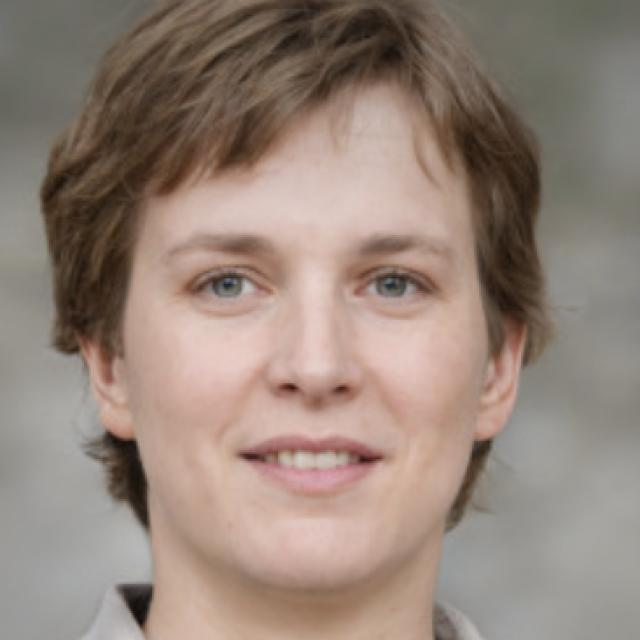happy: (71, 28, 536, 589)
